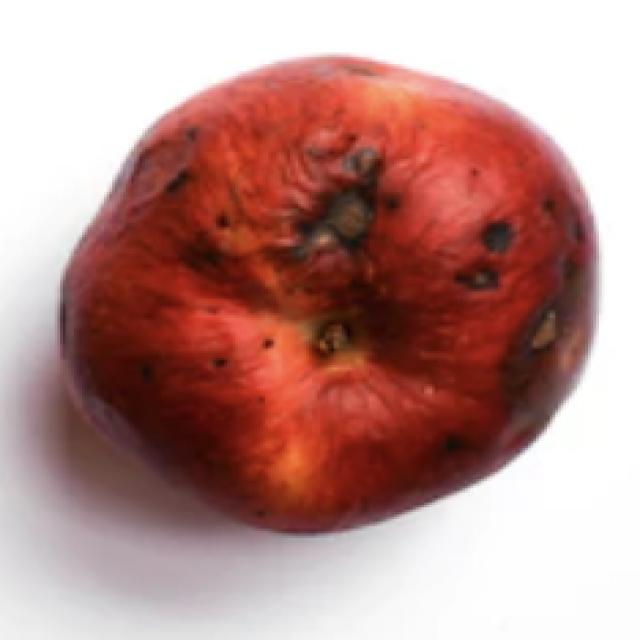rotten_apple: (57, 50, 601, 542)
